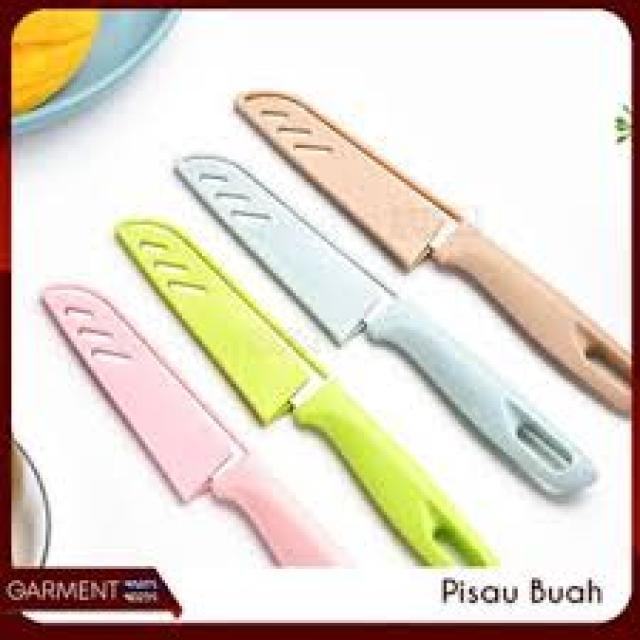Knife: (125, 82, 636, 581)
